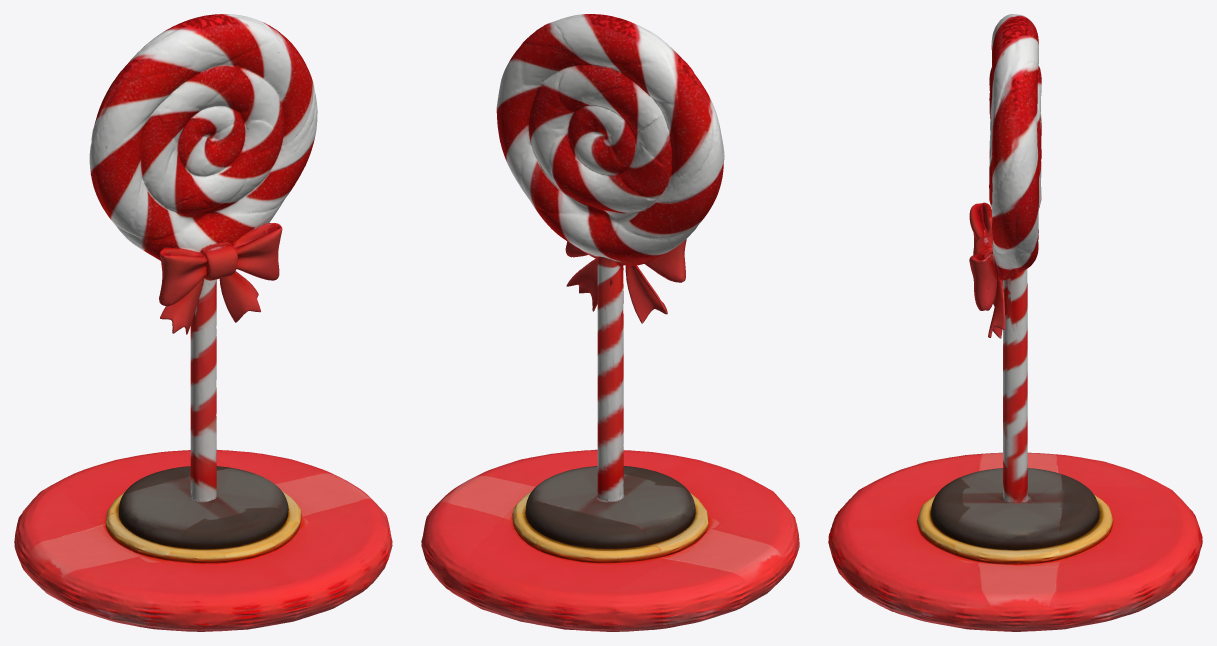
File: candy-delight.glb
3 views of the same model, side by side, from view 1: azimuth 30°, elevation 25°; view 2: azimuth 150°, elevation 25°; view 3: azimuth 270°, elevation 25° (orthographic).
Bounding box in the file's own units: 1.21 × 1.9 × 1.21.
1 material, 1 textured.
